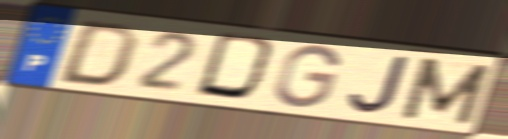2: (132, 30, 203, 94)
D: (191, 30, 285, 106), (53, 18, 143, 89)
G: (271, 43, 344, 110)
J: (346, 52, 415, 116)
M: (396, 54, 495, 128)
